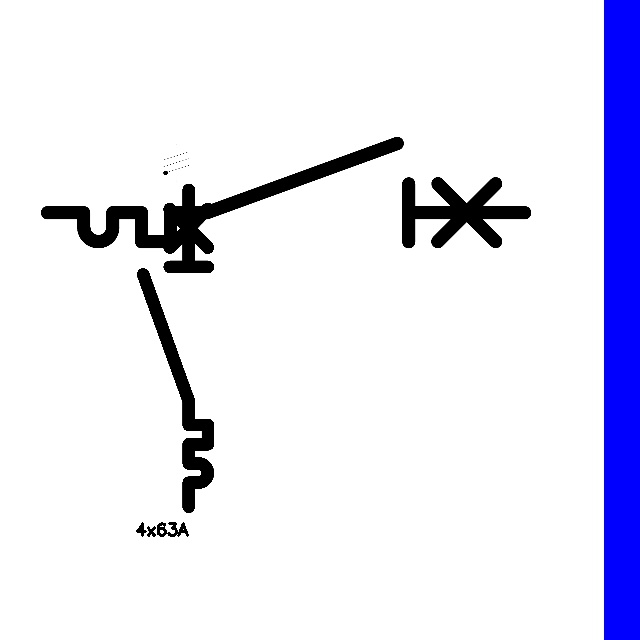interruptor_termomagnetico: (35, 131, 537, 254), (135, 181, 216, 514)
